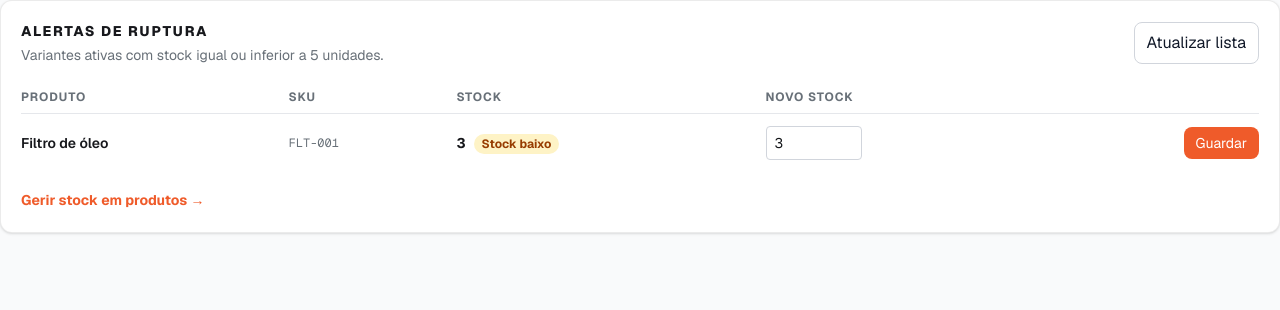
it: InventoryAlerts › atualiza a lista a partir da API com o limiar atual
Click the button "Atualizar lista": (1196, 43) [1134,22,1259,64]
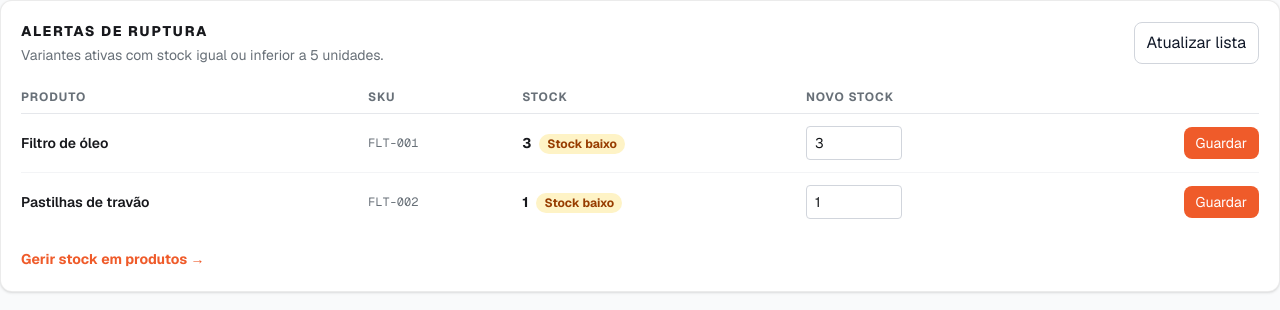
Expected: the text "Pastilhas de travão" is shown, [21,172,368,231]
Expected: the text "FLT-002" is shown, [368,172,522,231]
